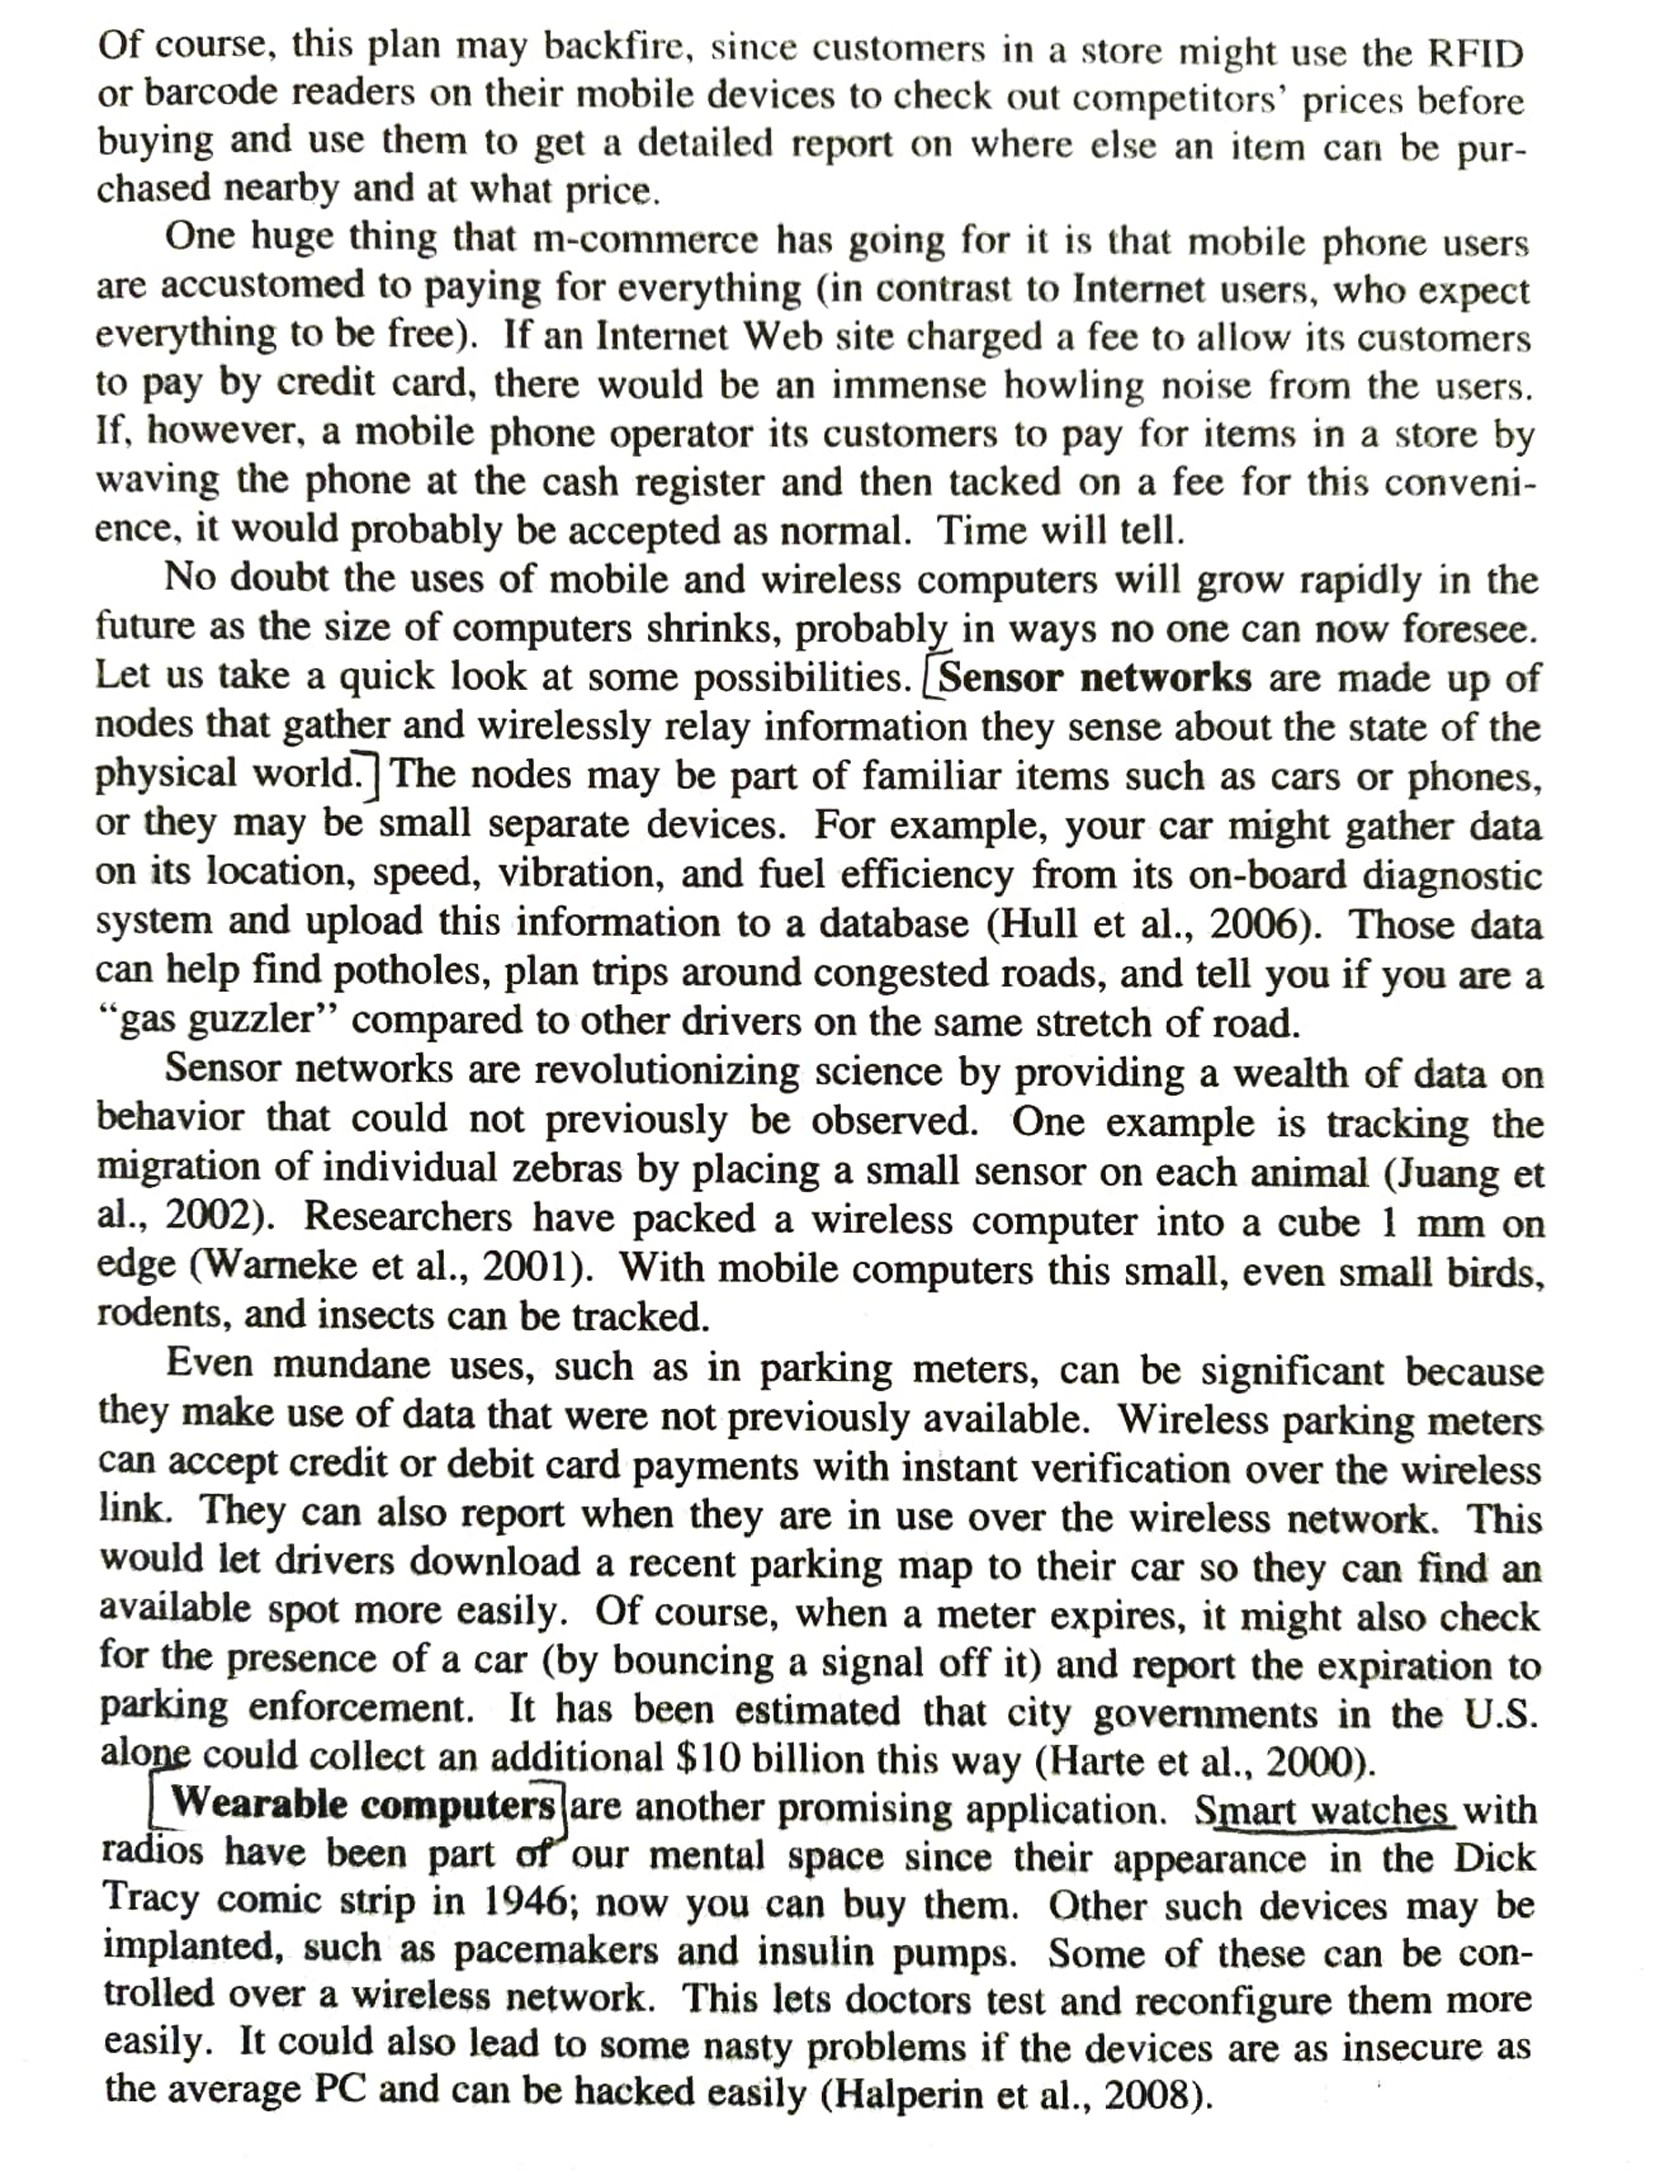BB1: (68, 16, 1546, 563)
BB2: (68, 556, 1579, 1337)
BB3: (63, 1336, 1600, 1787)
BB4: (61, 1787, 1604, 2128)
